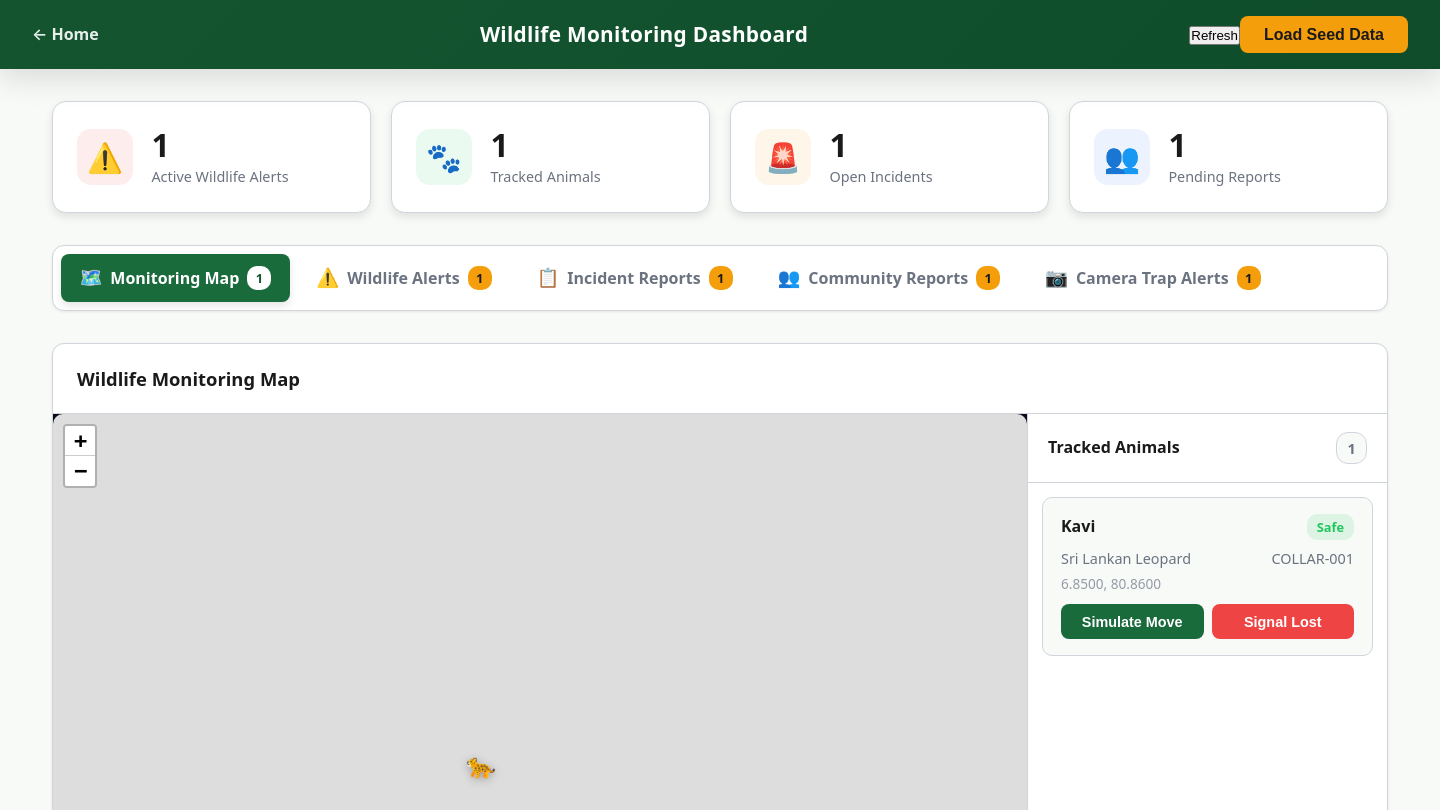
SupervisorDashboard tabs › shows community reports data when the community tab is clicked
Click the tab "👥 Community Reports 1" at coordinates (889, 278), box [759,254,1019,302]
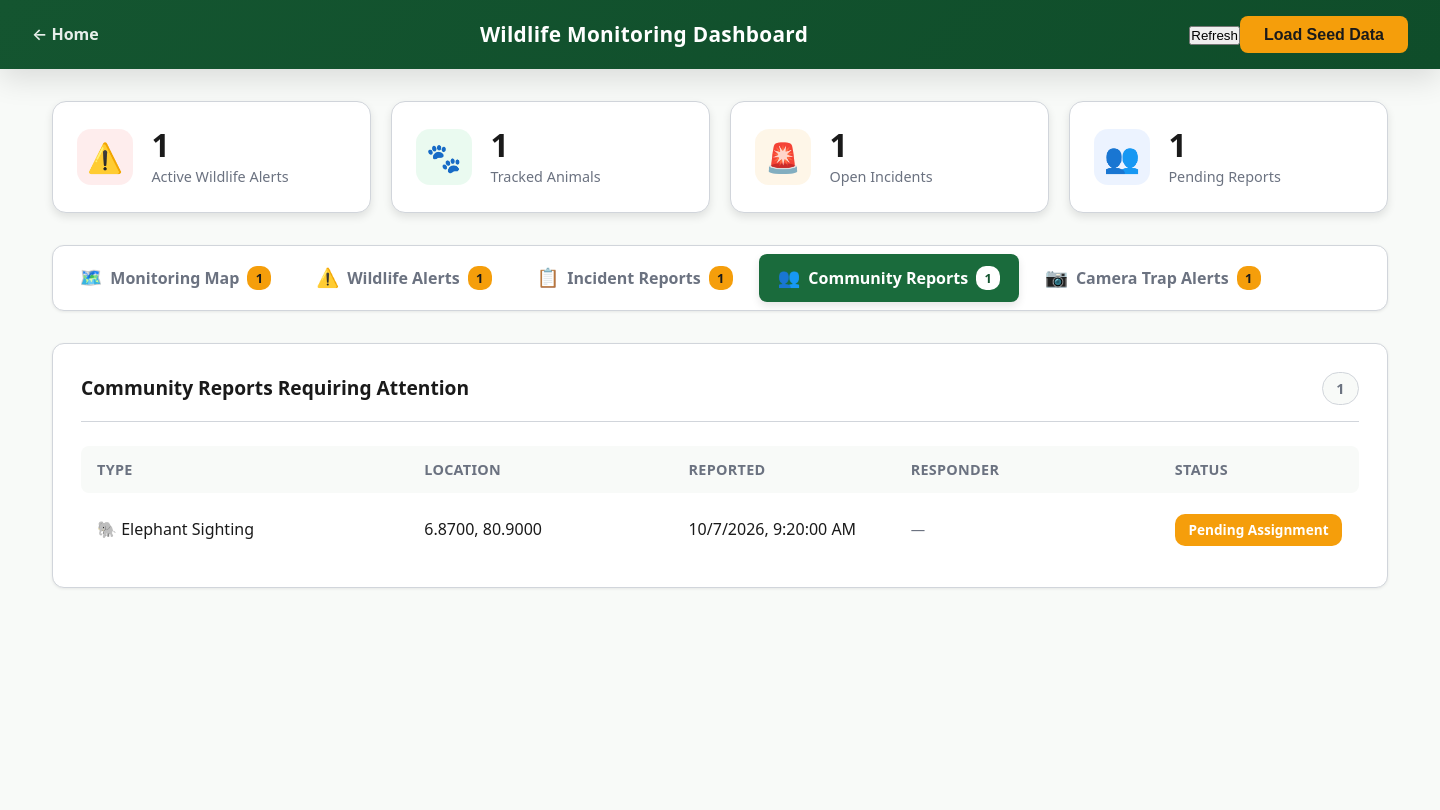
Result: the heading "Community Reports Requiring Attention" is shown at [81,373,469,404]
Result: the text "🐘 Elephant Sighting" is shown at [97,518,254,540]
Result: the text "Pending Assignment" is shown at [1175,514,1342,546]
